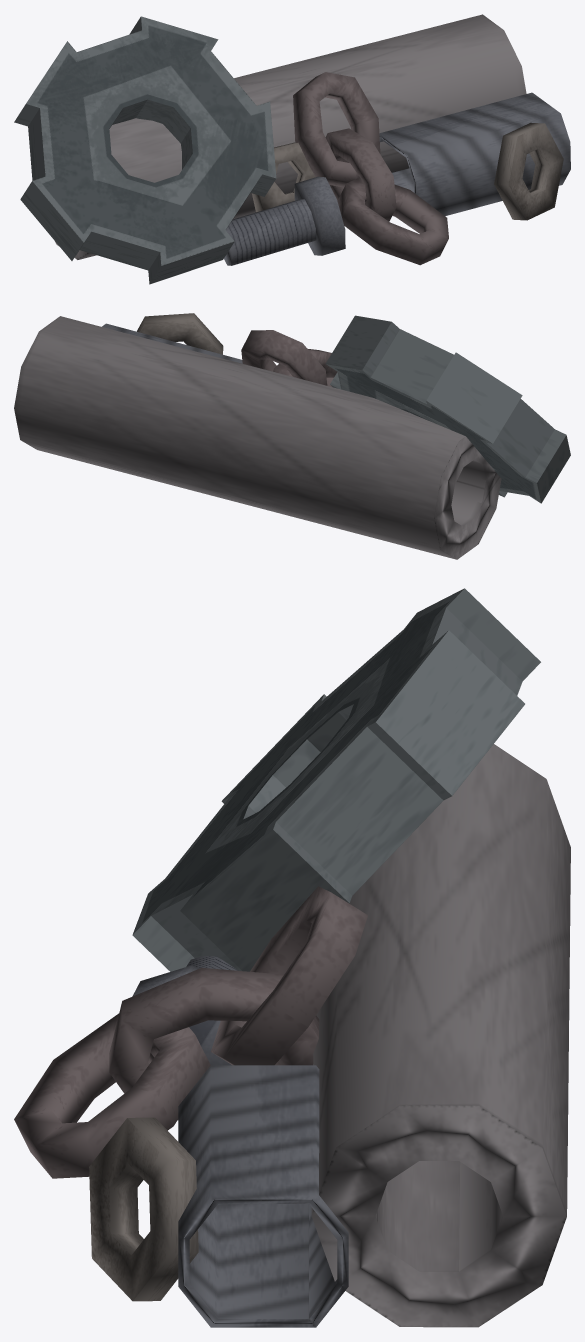
The model's file is Resource_001_Lab_001_Metal.fbx.
3 renders of one model, top to bottom at view 1: azimuth 30°, elevation 25°; view 2: azimuth 150°, elevation 25°; view 3: azimuth 270°, elevation 25°, orthographic. The views are drawn at different scales.
Parts seen in each view (by area): view 1: Resource_001_Lab_001_Metal; view 2: Resource_001_Lab_001_Metal; view 3: Resource_001_Lab_001_Metal.
Part boxes in pixels (box(x1,y1,x2,y2)): Resource_001_Lab_001_Metal: box(14, 14, 570, 284); Resource_001_Lab_001_Metal: box(14, 313, 570, 559); Resource_001_Lab_001_Metal: box(14, 588, 570, 1327).
Size of the model in its own units: 131 by 54.03 by 68.98.
